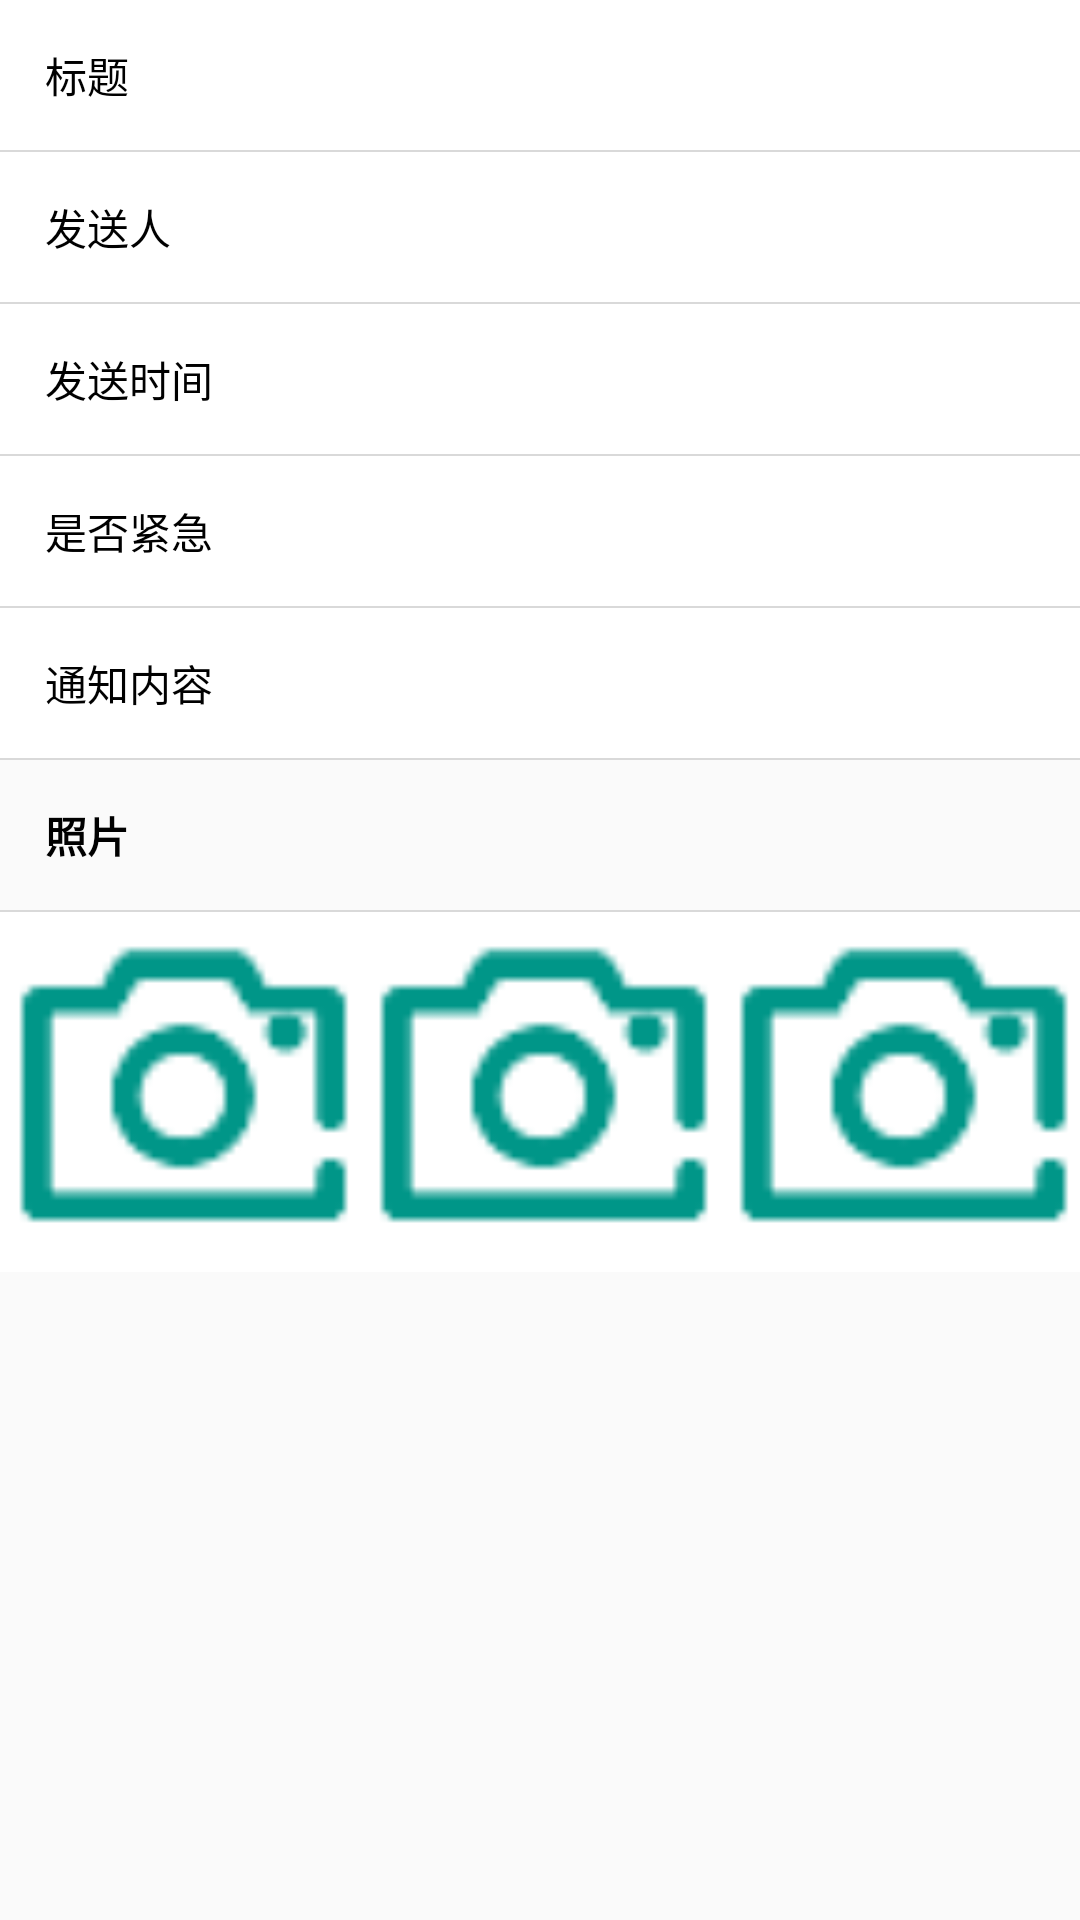

Icon click points for this 1080x1920 phone screenshot, format point (x, y):
take camera: point (183, 1085), point (543, 1085), point (903, 1085)
